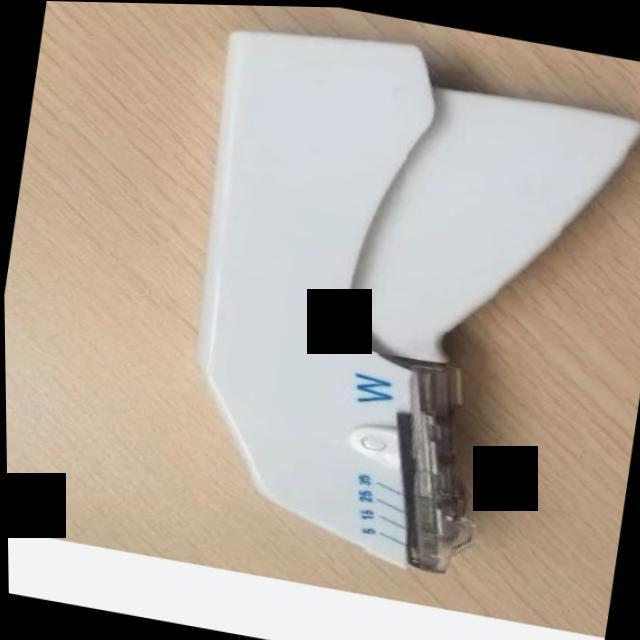Skin Stapler: (135, 6, 640, 602)
